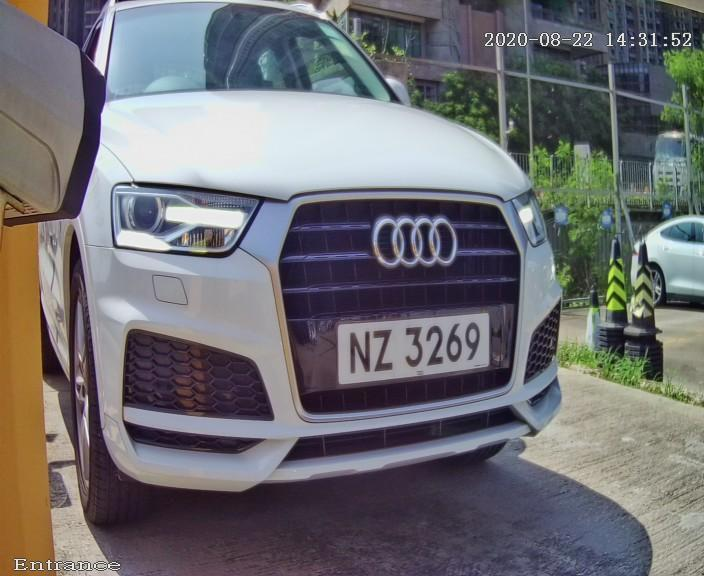Car: (16, 8, 598, 533)
License Plate: (331, 304, 497, 391)
